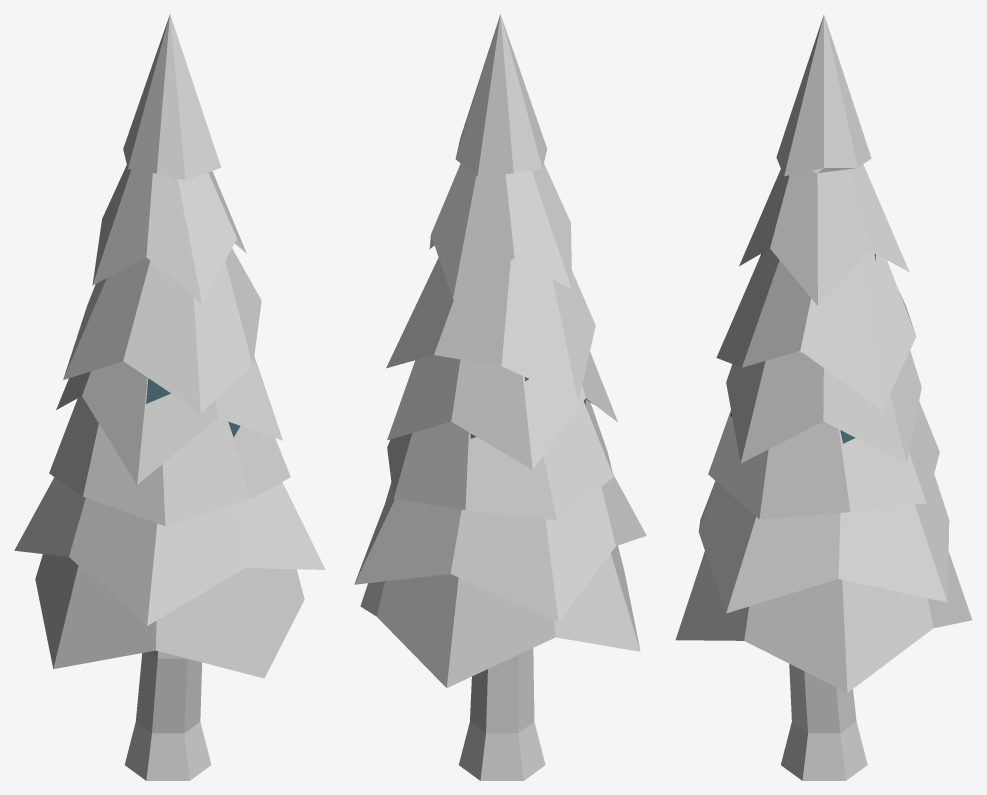
File: resource__tree__pine-tree-small.fbx
3 renders of one model, left to right at view 1: azimuth 30°, elevation 25°; view 2: azimuth 150°, elevation 25°; view 3: azimuth 270°, elevation 25°, orthographic.
Visible parts, largest first — view 1: Pine_Tree_Slim; view 2: Pine_Tree_Slim; view 3: Pine_Tree_Slim.
Boxes of the visible parts, box(x1,y1,x2,y2) form: Pine_Tree_Slim: box(14, 14, 325, 780); Pine_Tree_Slim: box(354, 14, 646, 780); Pine_Tree_Slim: box(675, 15, 972, 780).
Size of the model in its own units: 85.82 by 240 by 85.82.
